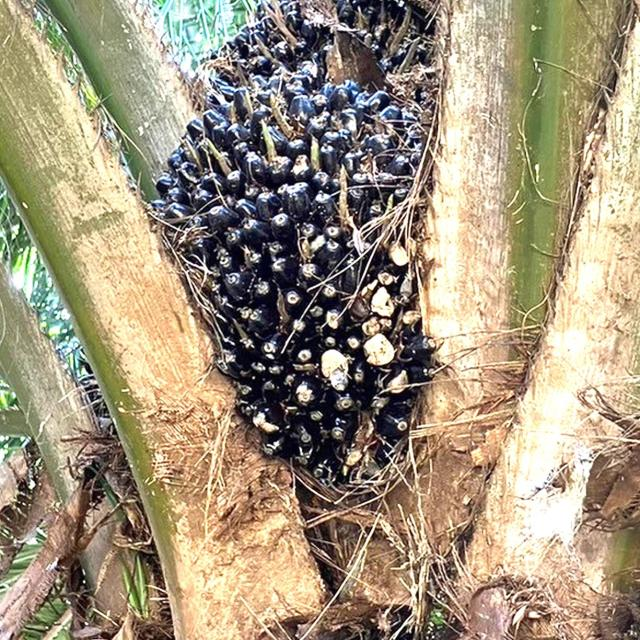unripe: (130, 47, 472, 500)
